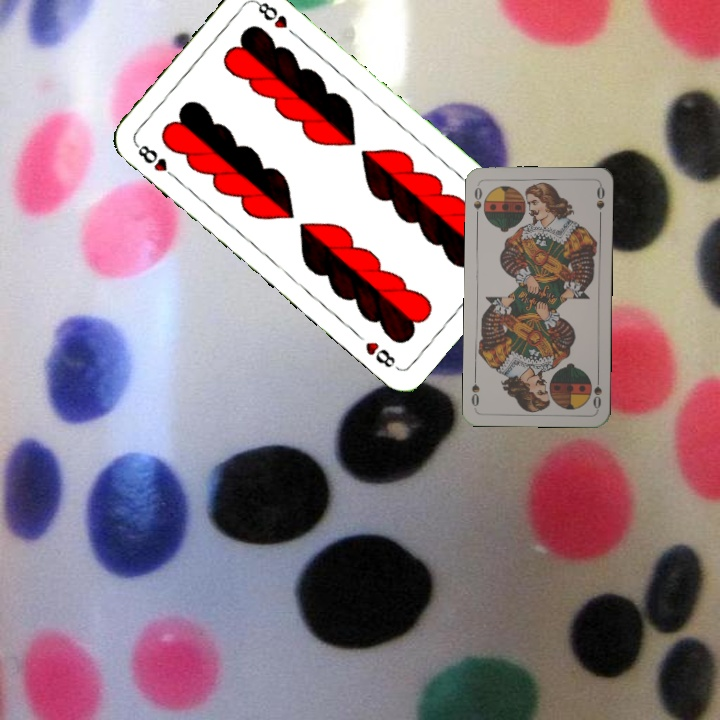H8: (131, 139, 180, 183)
SO: (589, 371, 604, 411), (470, 181, 485, 221)
